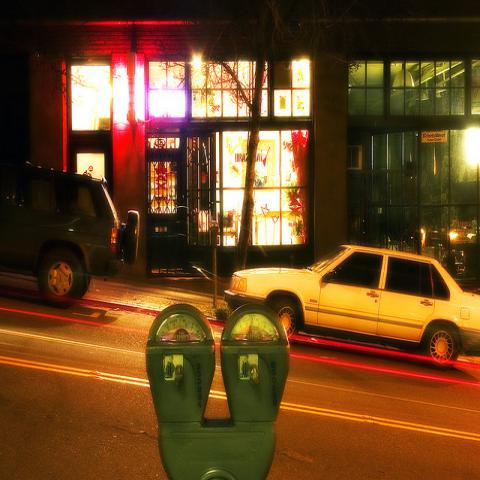car: (218, 243, 480, 356), (2, 160, 139, 310)
